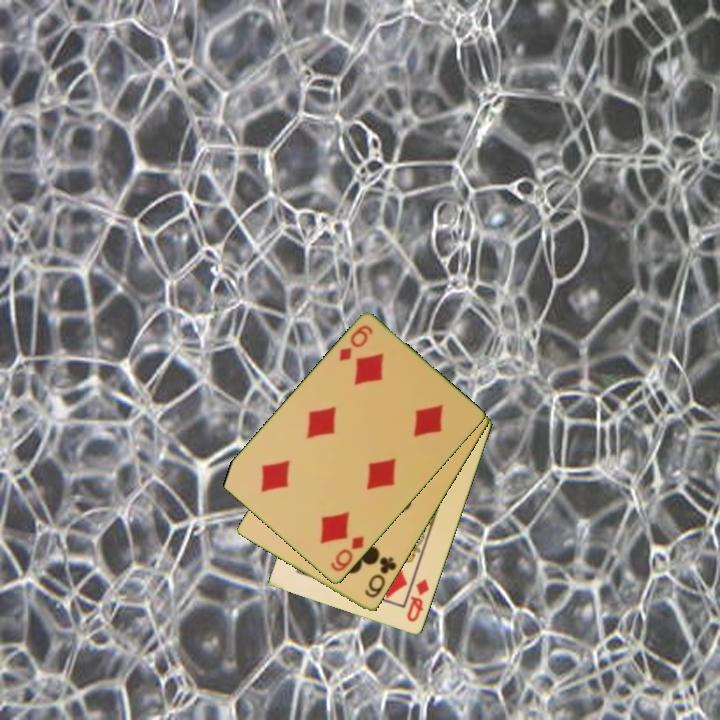6c: (361, 553, 400, 601)
6d: (335, 322, 376, 365), (327, 533, 367, 575)
Qd: (403, 575, 432, 625)
